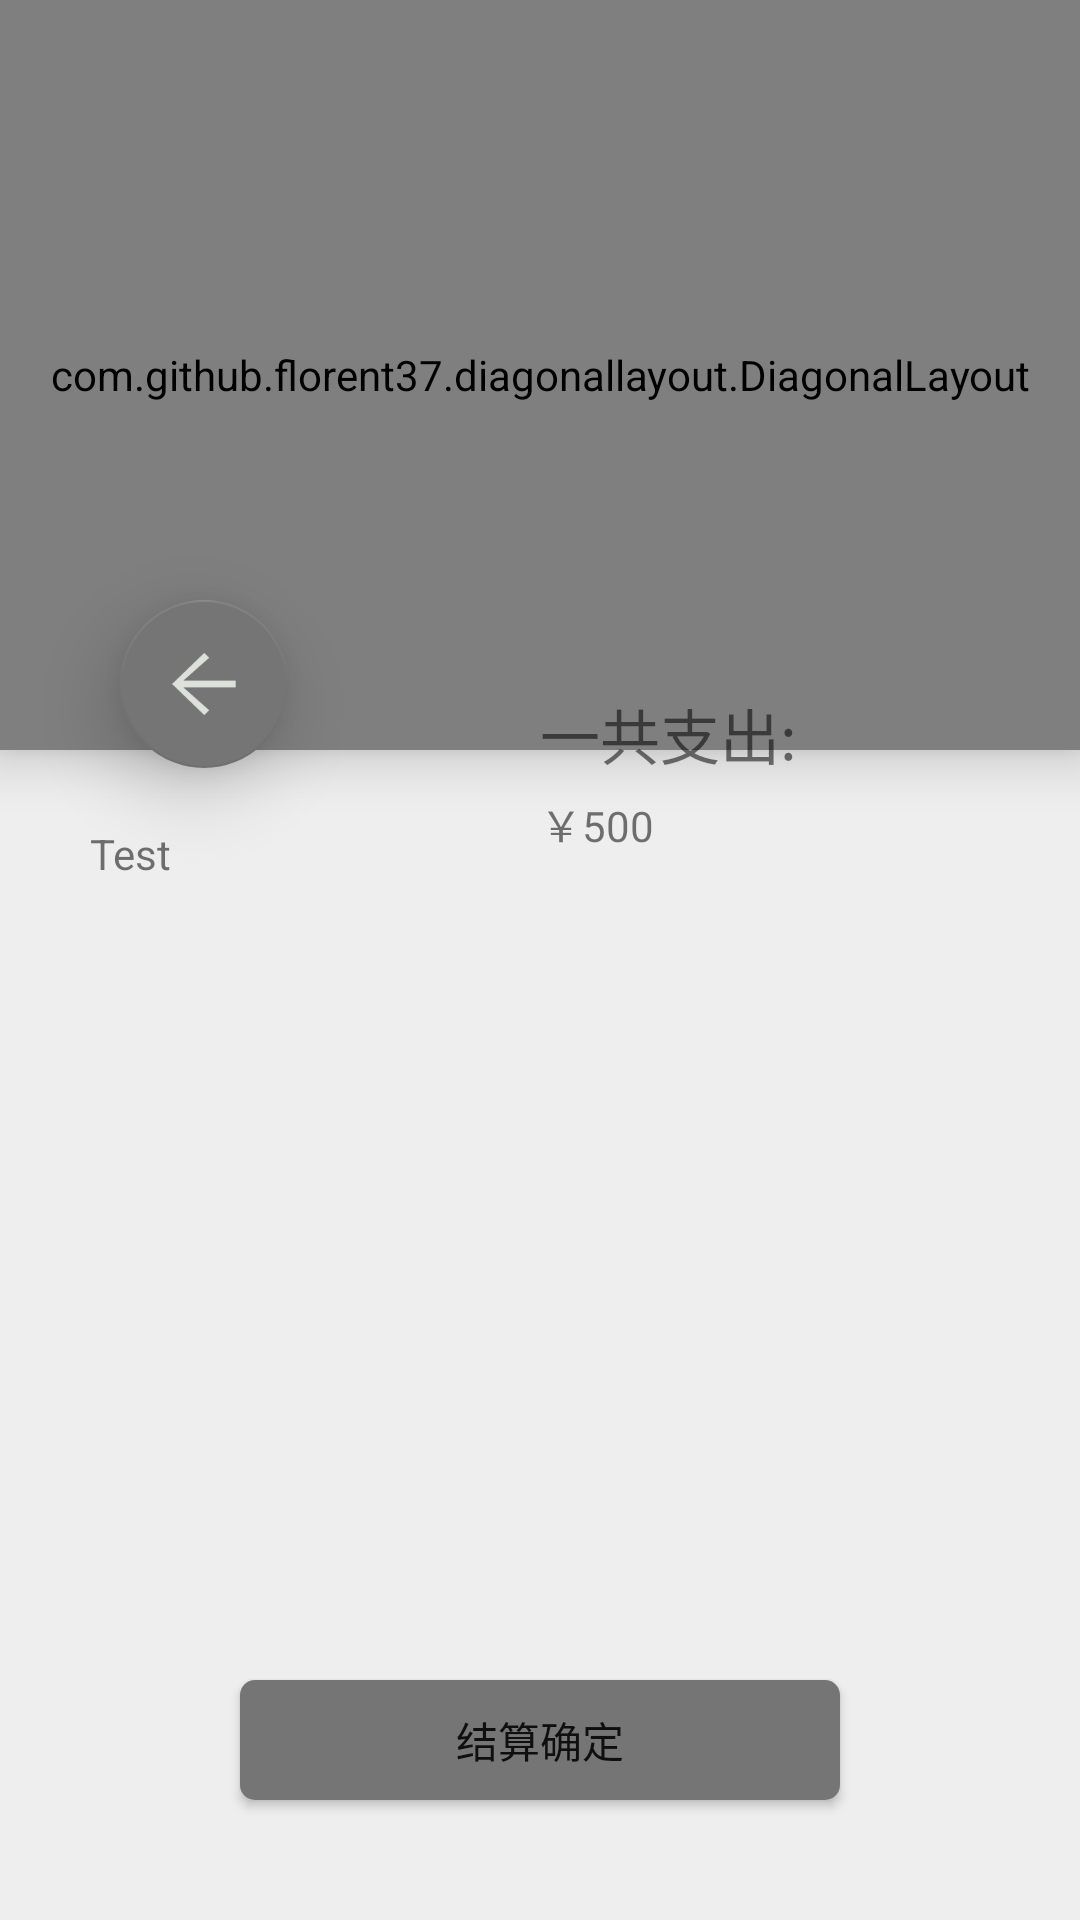

Screen size 1080 x 1920. Icon name, then its center in pixels as point (x, y):
back: point (204, 710)
